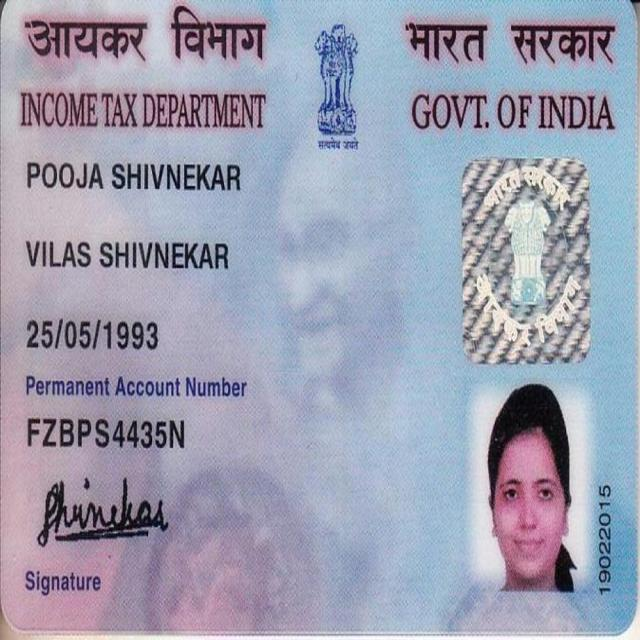pan_card: (3, 4, 635, 629)
